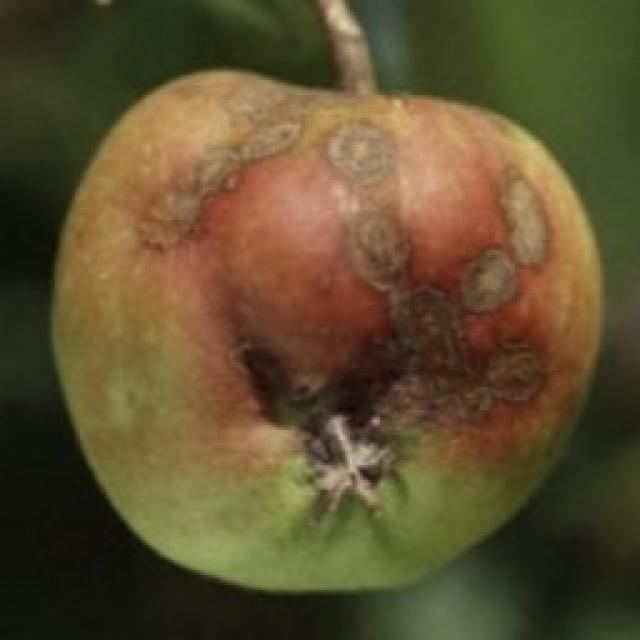defective: (48, 0, 605, 595)
